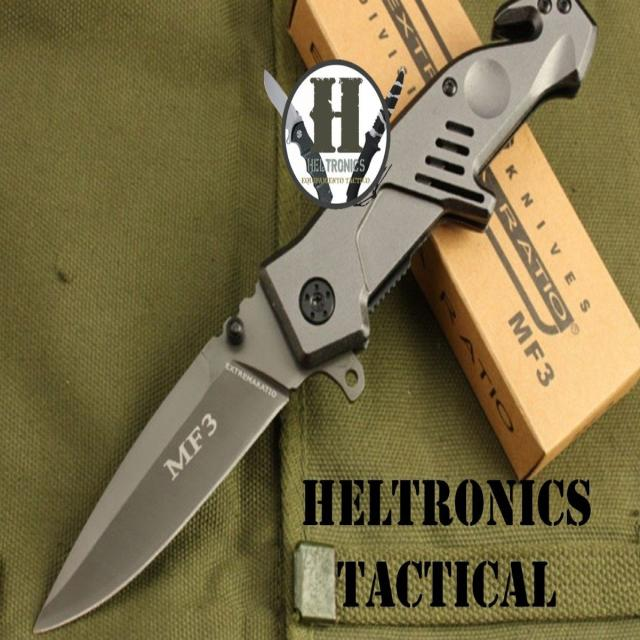knife: (27, 4, 608, 640)
